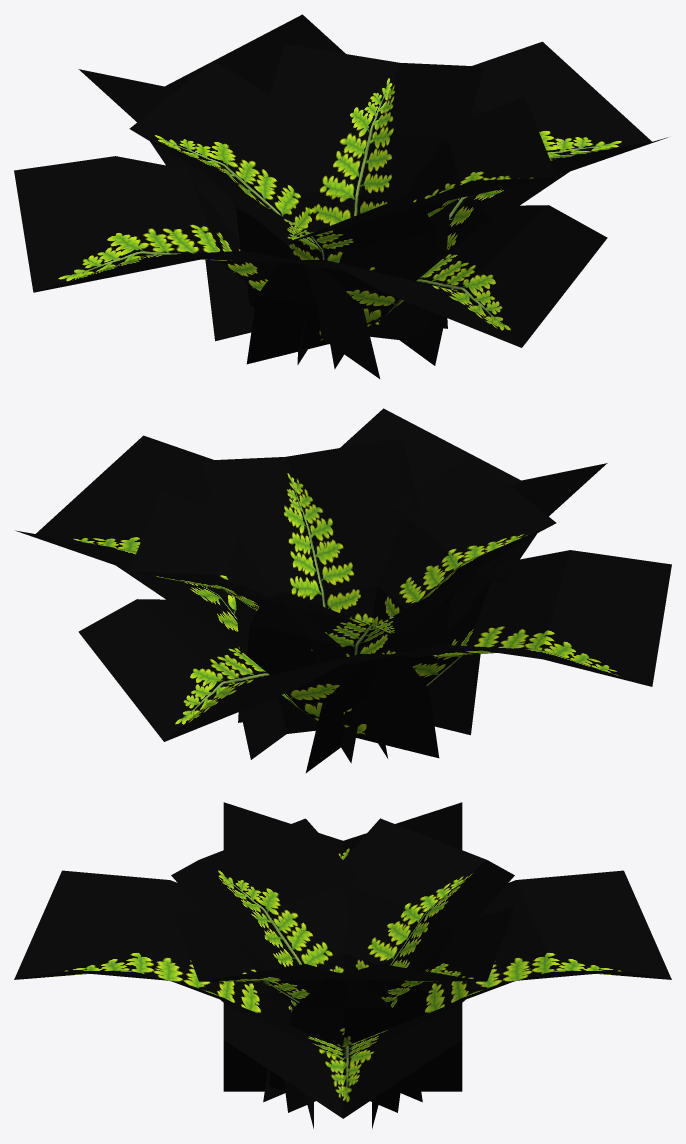
Rendered from SM_Fern2.fbx.
3 renders of one model, top to bottom at view 1: azimuth 30°, elevation 25°; view 2: azimuth 150°, elevation 25°; view 3: azimuth 270°, elevation 25°, orthographic. The views are drawn at different scales.
Visible parts, largest first — view 1: Fern2; view 2: Fern2; view 3: Fern2.
Part boxes in pixels (x1=…): Fern2: x1=14, y1=14, x2=667, y2=378; Fern2: x1=15, y1=408, x2=671, y2=772; Fern2: x1=14, y1=802, x2=671, y2=1128.
Bounding box in the file's own units: 271 × 85.56 × 271.
Materials: 1 (1 with a texture image).
